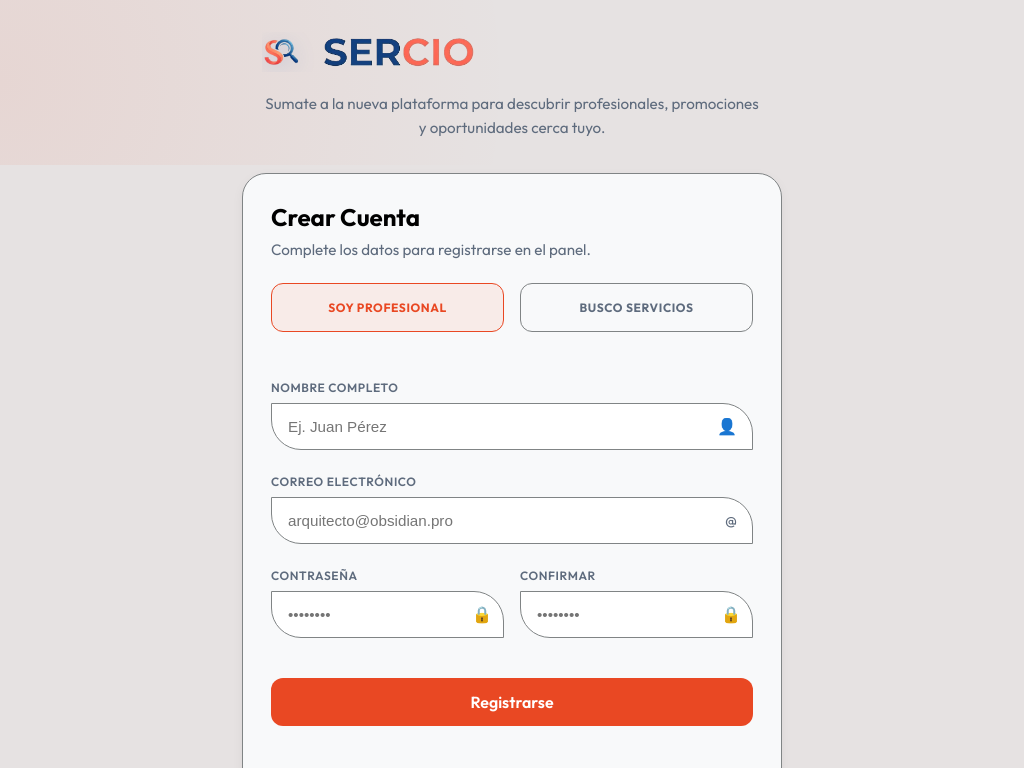
Scenario: RegisterPage › valida que las contraseñas coincidan
Type "password123" into the password field with placeholder "••••••••" at (388, 614), box [271,591,504,638]
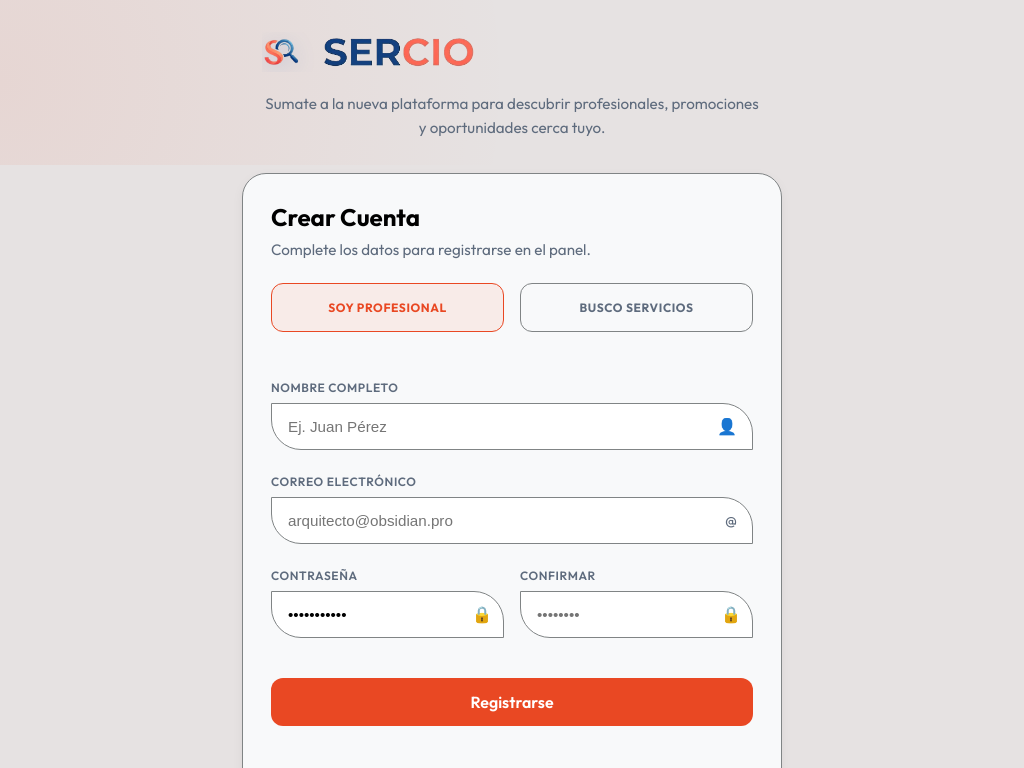
Type "passwordXXX" into the password field with placeholder "••••••••" at (636, 614), box [520,591,753,638]
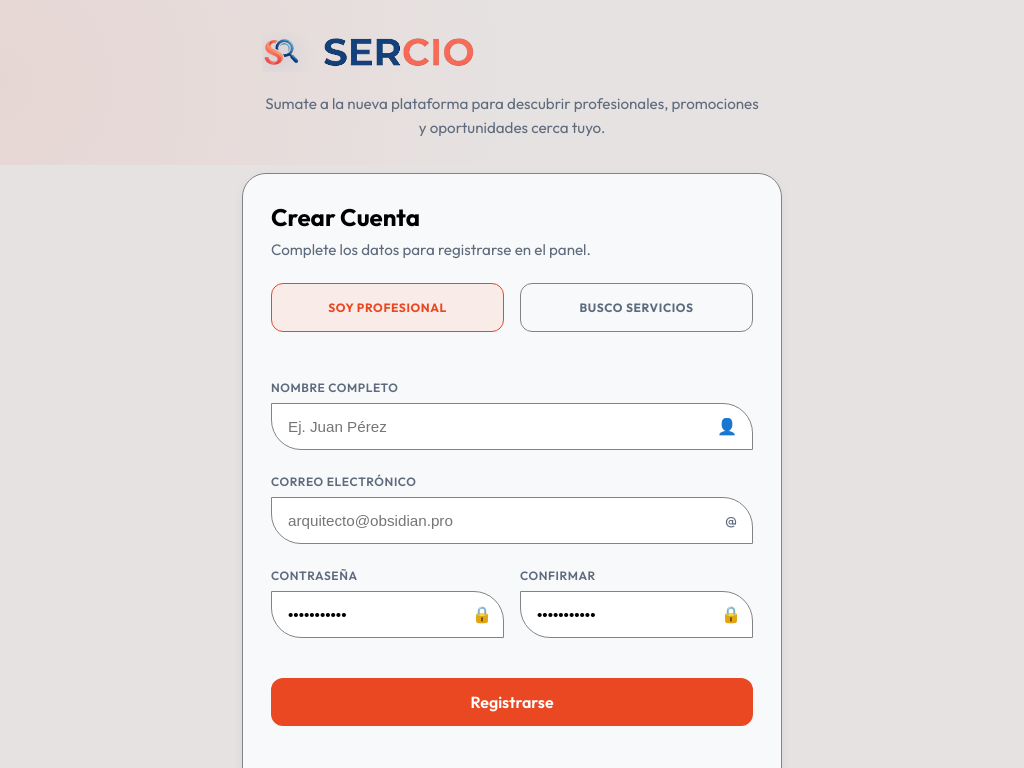
Click the button "Registrarse" at (512, 702), box [271,678,753,726]
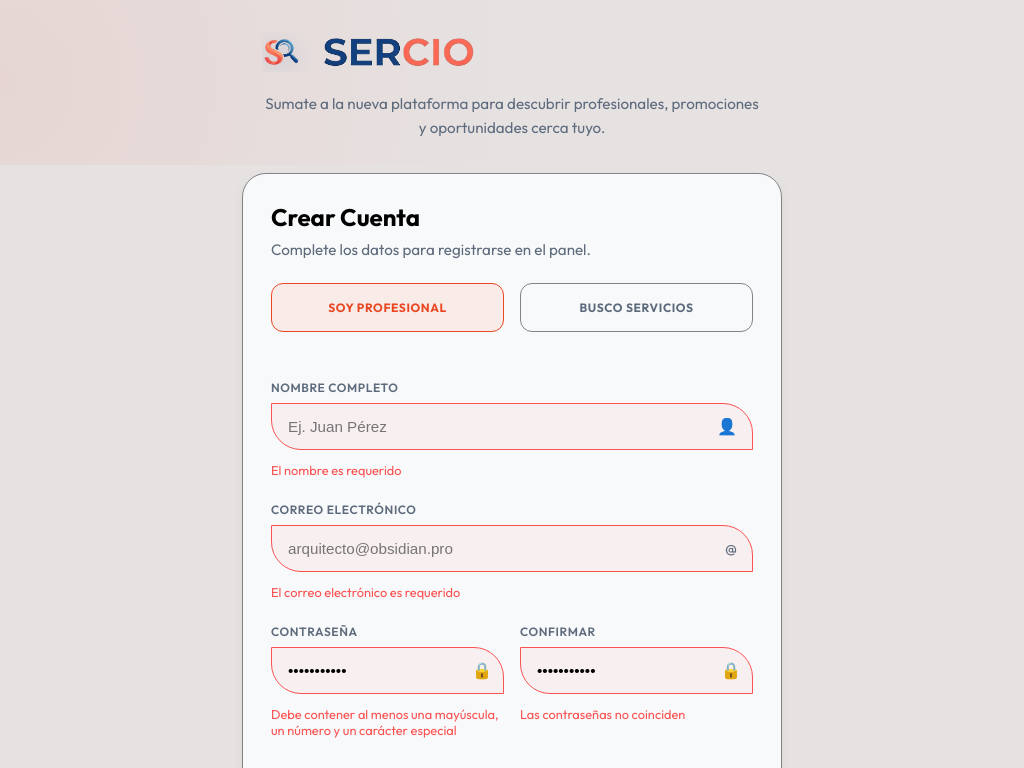
Expected: the text "Las contraseñas no coinciden" is shown, [520,706,685,722]
